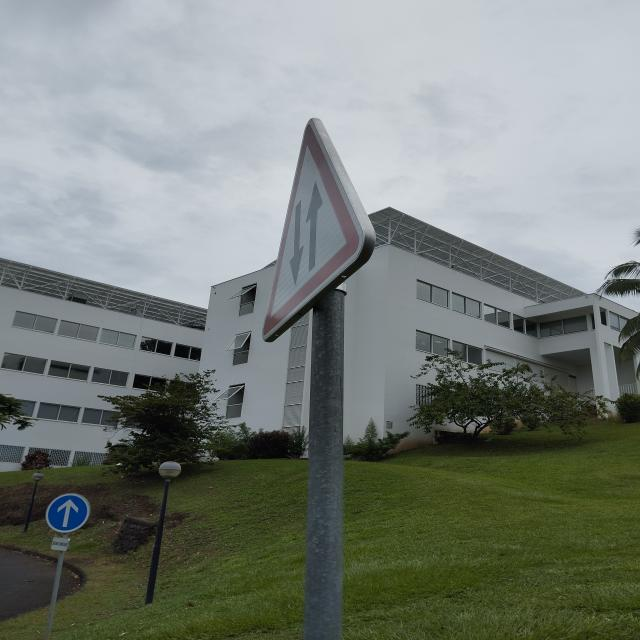Double-Sens: (262, 115, 382, 345)
